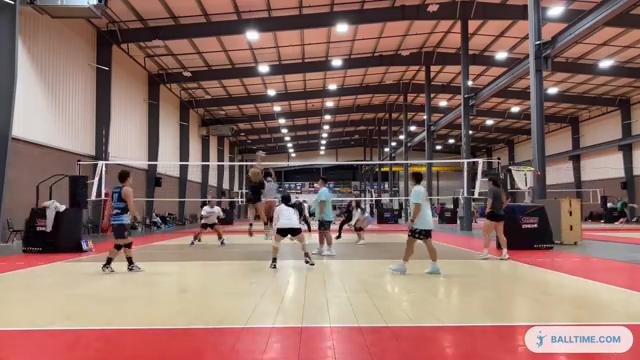attacco: (244, 149, 270, 240)
